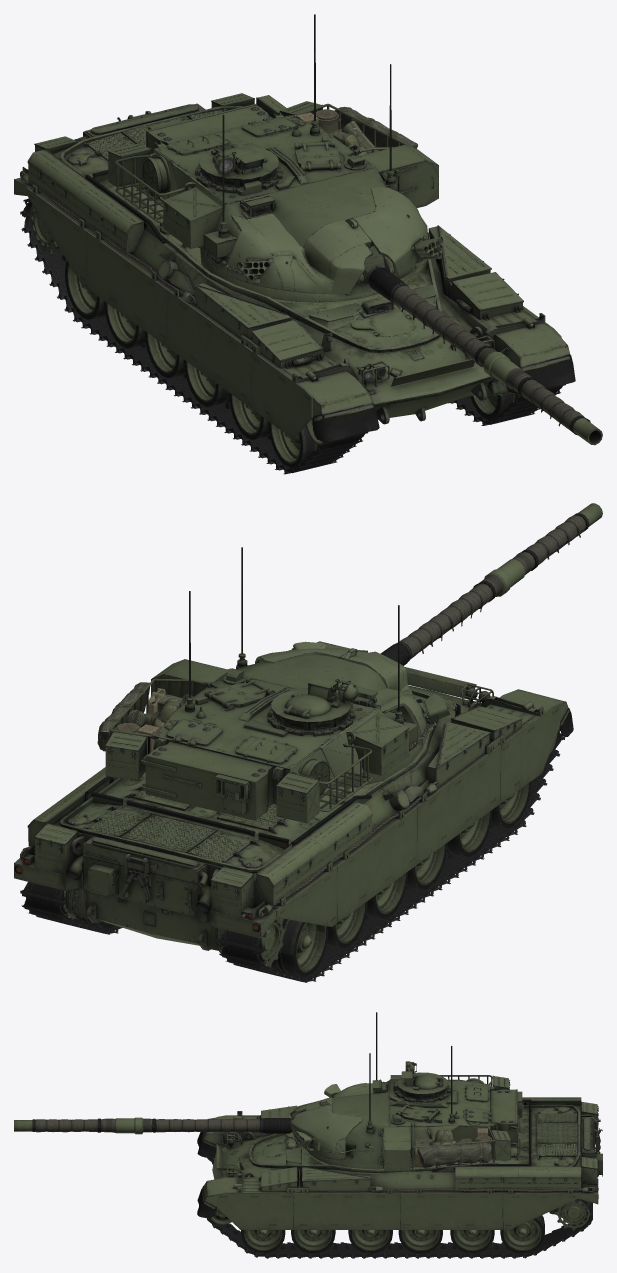
The picture shows the model from 3 angles, top to bottom: view 1: azimuth 30°, elevation 25°; view 2: azimuth 150°, elevation 25°; view 3: azimuth 270°, elevation 25°; orthographic projection. The views are drawn at different scales.
Parts seen in each view (by area): view 1: Object_4, Object_2, Object_3, Object_6, Object_10, Object_5, Object_12, Object_7, Object_11, Object_8, Object_9; view 2: Object_4, Object_2, Object_3, Object_10, Object_6, Object_5, Object_12, Object_11, Object_7, Object_9; view 3: Object_4, Object_2, Object_3, Object_11, Object_5, Object_10, Object_6, Object_7, Object_9.
Part boxes in pixels (bbox=[...]): Object_4: bbox=[14, 93, 575, 441]; Object_2: bbox=[107, 101, 438, 302]; Object_3: bbox=[26, 184, 561, 439]; Object_6: bbox=[153, 148, 443, 330]; Object_10: bbox=[20, 198, 565, 474]; Object_5: bbox=[360, 246, 602, 445]; Object_12: bbox=[104, 301, 520, 467]; Object_7: bbox=[30, 106, 417, 294]; Object_11: bbox=[30, 204, 520, 445]; Object_8: bbox=[201, 158, 533, 380]; Object_9: bbox=[222, 14, 391, 221]; Object_4: bbox=[14, 641, 573, 953]; Object_2: bbox=[105, 653, 421, 823]; Object_3: bbox=[276, 648, 560, 926]; Object_10: bbox=[20, 730, 565, 982]; Object_6: bbox=[255, 641, 449, 788]; Object_5: bbox=[380, 503, 602, 665]; Object_12: bbox=[327, 781, 531, 948]; Object_11: bbox=[62, 733, 557, 976]; Object_7: bbox=[97, 682, 428, 907]; Object_9: bbox=[189, 547, 399, 711]; Object_4: bbox=[197, 1097, 602, 1218]; Object_2: bbox=[301, 1061, 523, 1171]; Object_3: bbox=[217, 1111, 579, 1229]; Object_11: bbox=[213, 1158, 589, 1253]; Object_5: bbox=[14, 1117, 294, 1134]; Object_10: bbox=[207, 1158, 592, 1258]; Object_6: bbox=[286, 1079, 490, 1164]; Object_7: bbox=[383, 1128, 581, 1191]; Object_9: bbox=[369, 1012, 452, 1121].
Bounding box in the file's own units: 154 × 167 × 460.
10 materials, 10 textured.
